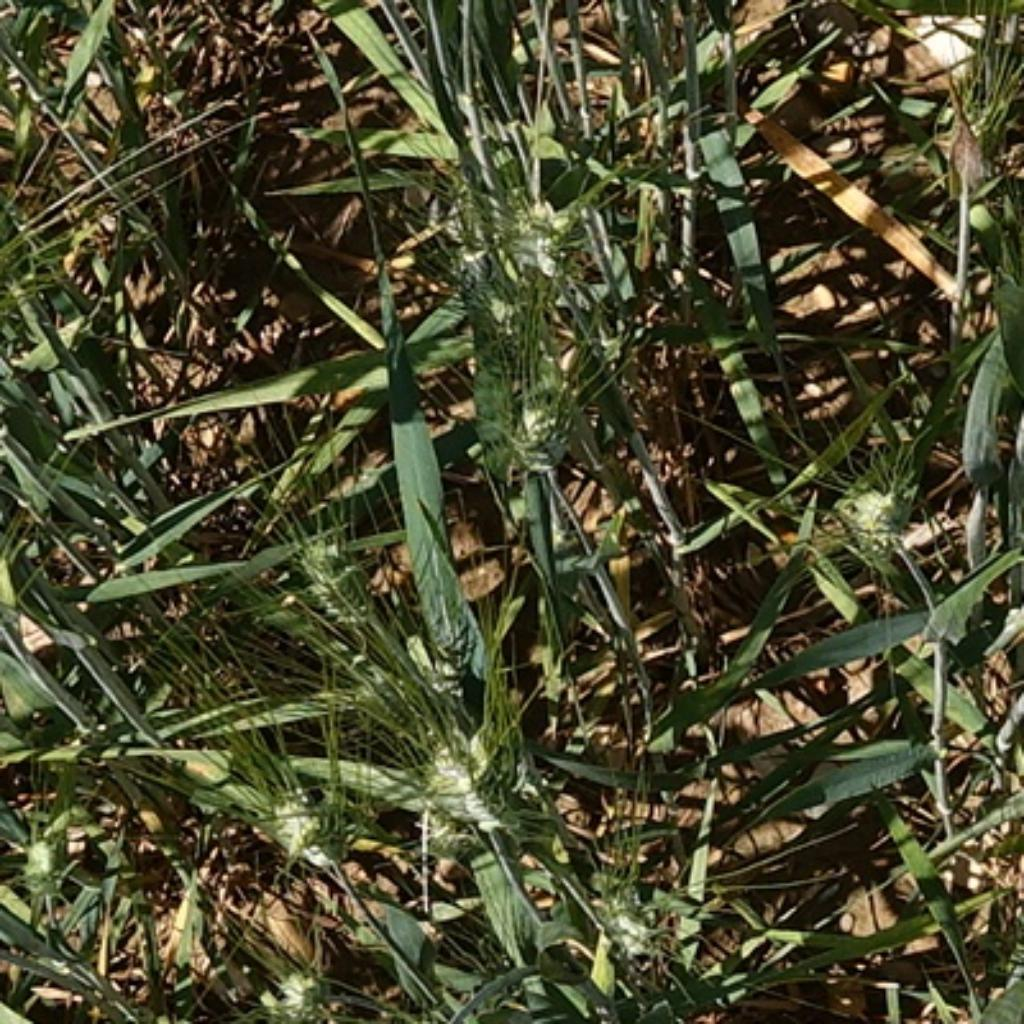0-0: (300, 534, 397, 639), (578, 855, 668, 960), (826, 463, 916, 560), (437, 729, 517, 828), (939, 87, 1006, 181), (263, 785, 331, 867), (258, 954, 335, 1024), (506, 215, 569, 293), (12, 821, 74, 896), (502, 399, 566, 471), (491, 305, 537, 373)
